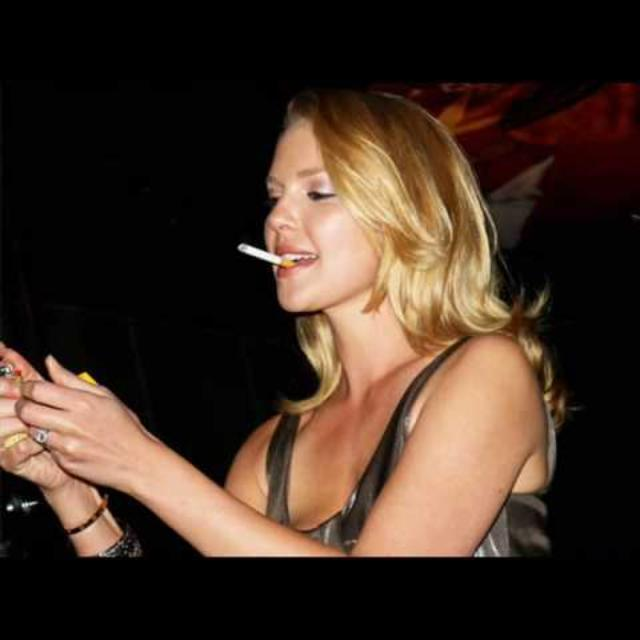rokok: (239, 244, 295, 276)
